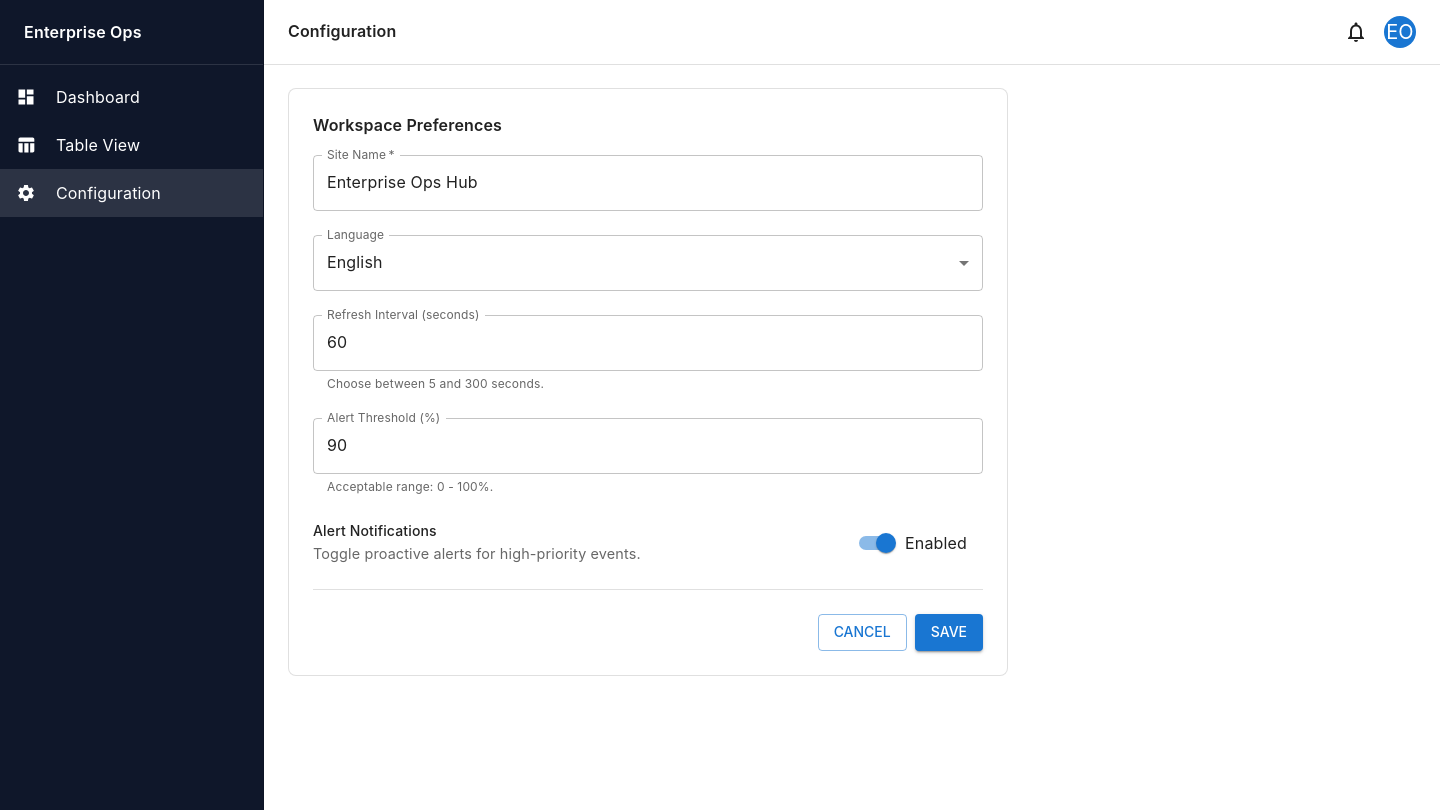
ConfigurationPage › blocks invalid submissions and shows toast on successful save
Replace the text in the field labelled "Site Name *" with "ab" at x=648, y=183, box [313,155,983,211]
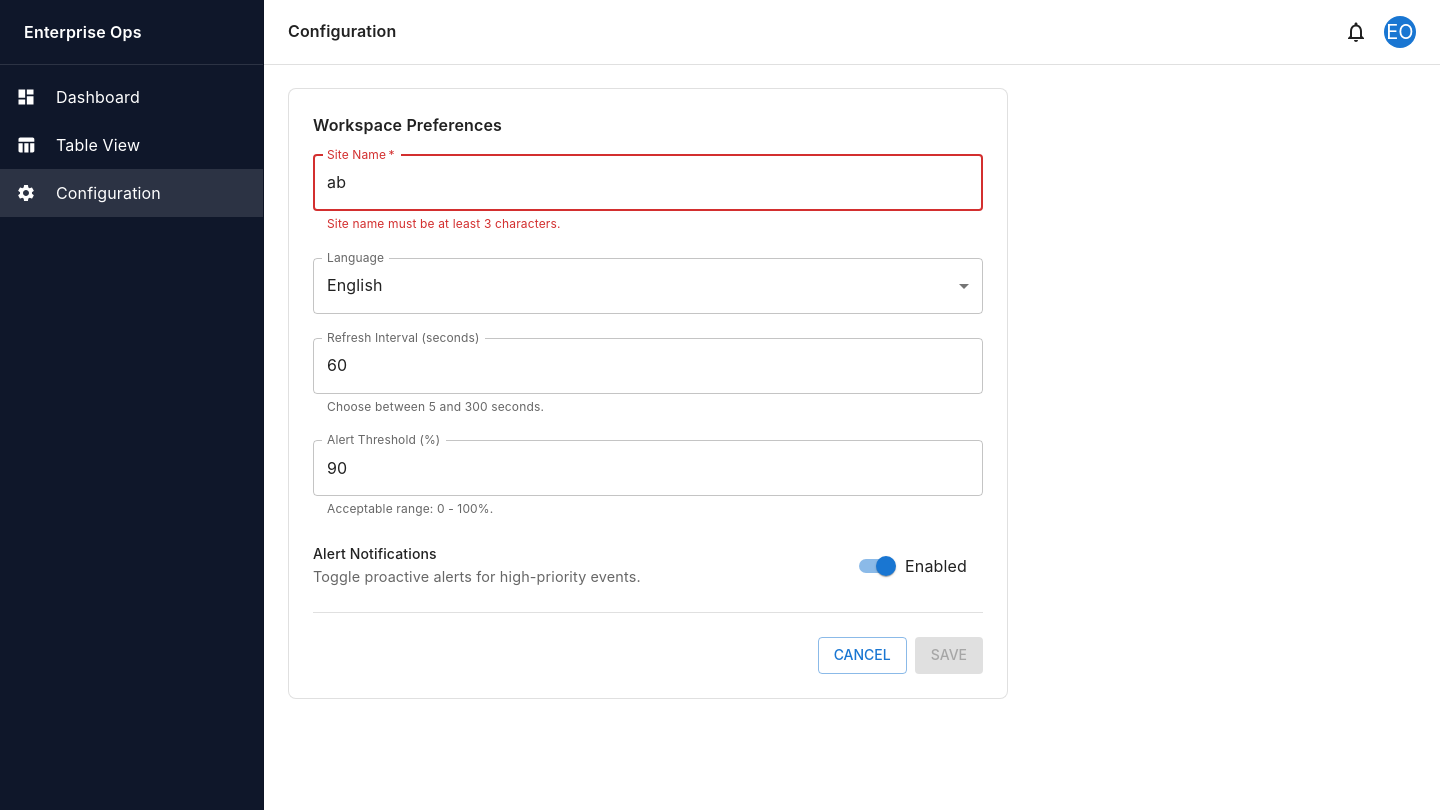
Expected: the button with test id "save-preferences" is disabled, [915,637,983,674]
Expected: the text "Site name must be at least 3 characters." is shown, [327,216,561,231]
Replace the text in the field labelled "Site Name *" with "Enterprise Ops Center" at x=648, y=183, box [313,155,983,211]
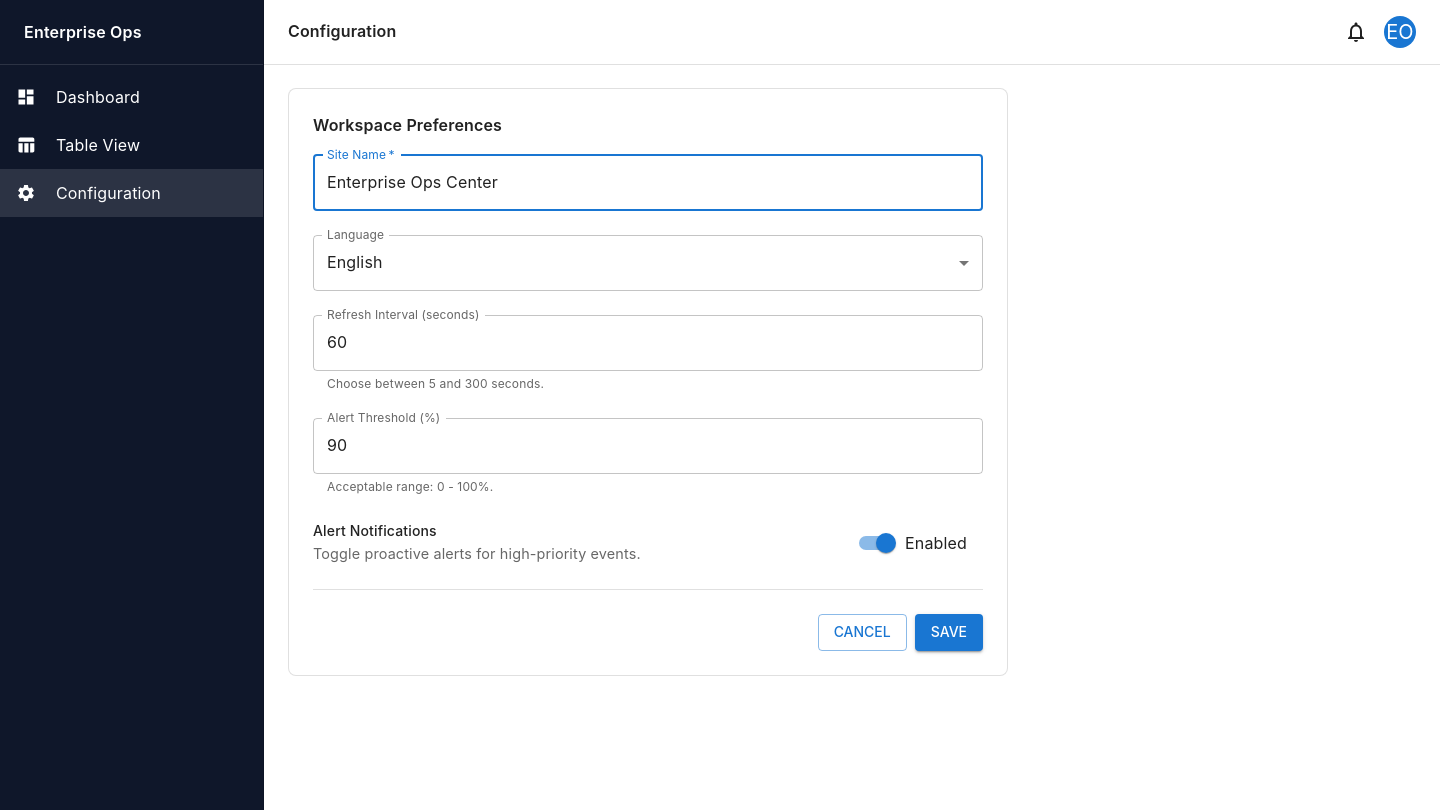
Expected: the button with test id "save-preferences" is enabled
Click the button with test id "save-preferences" at x=949, y=633, box [915,614,983,651]
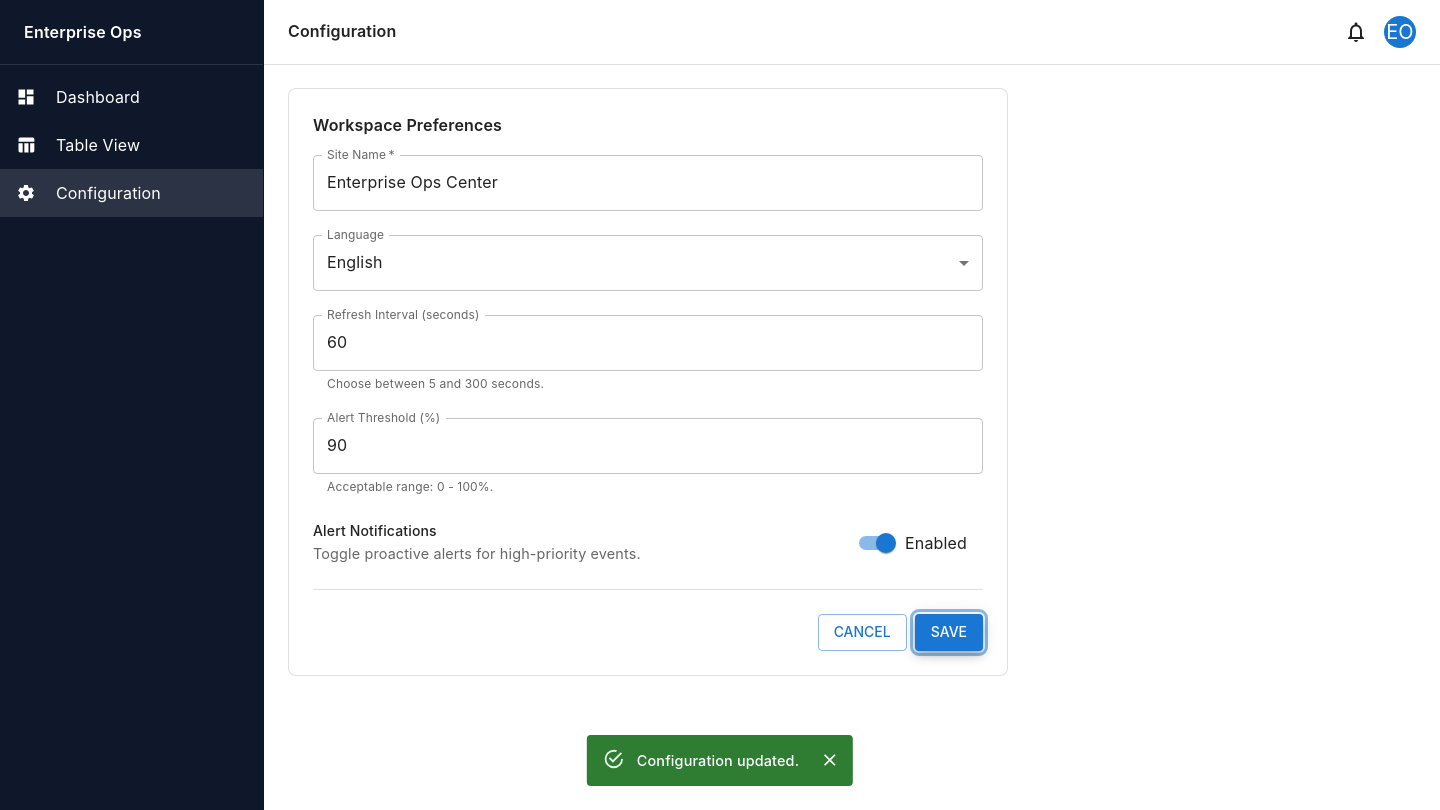
Expected: the text "Configuration updated." is shown, [637,752,799,769]
